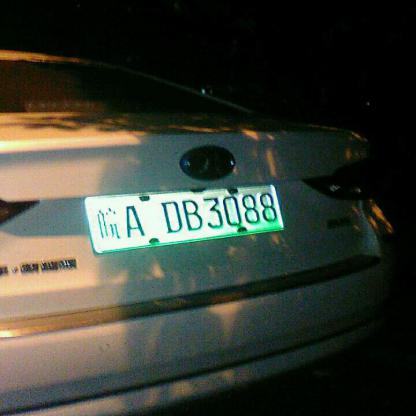lp: (88, 184, 283, 251)
